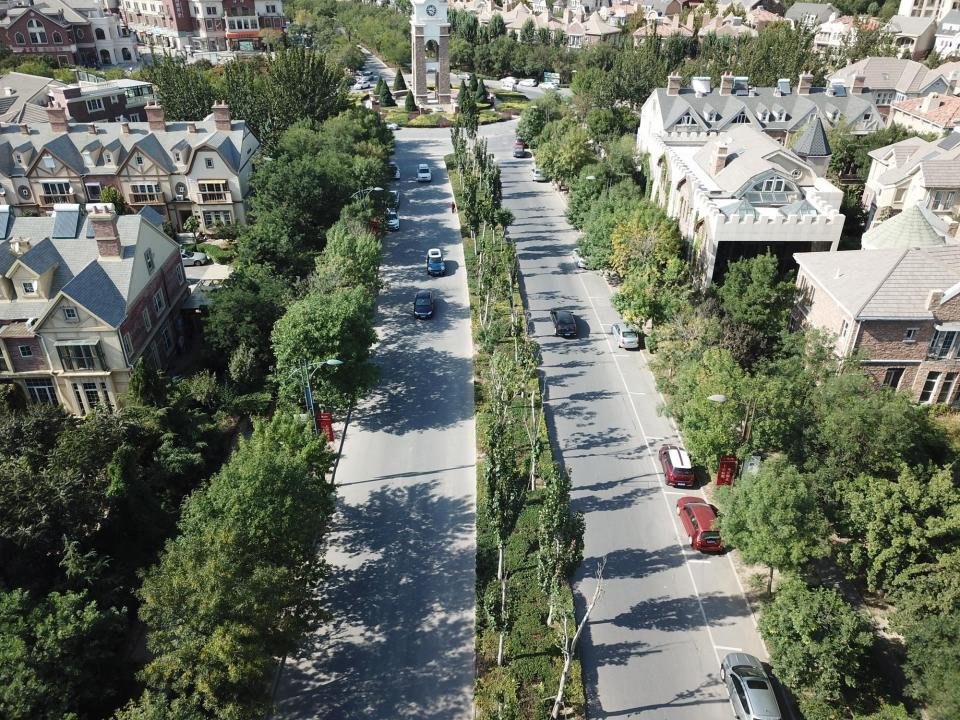car: (160, 249, 207, 267), (549, 307, 577, 335), (611, 322, 639, 348), (412, 290, 434, 318), (572, 247, 598, 269), (425, 248, 446, 275), (384, 209, 398, 230), (384, 161, 400, 179), (417, 164, 431, 182), (372, 121, 398, 130), (386, 190, 399, 207), (530, 168, 548, 180), (519, 78, 537, 87), (538, 82, 558, 90), (512, 145, 525, 157), (456, 73, 475, 80), (354, 81, 370, 89), (342, 78, 357, 86), (500, 77, 518, 83), (362, 72, 374, 81), (355, 66, 366, 75), (515, 138, 526, 146)
van: (500, 84, 517, 92), (183, 45, 194, 53)
